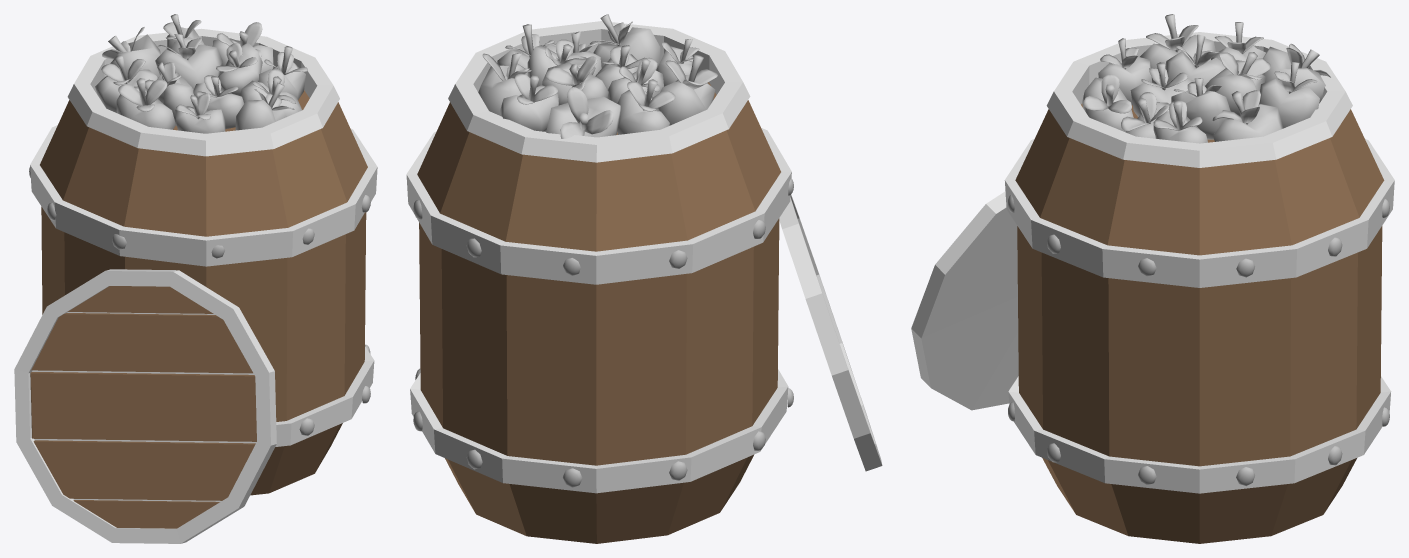
File: AppleBarrel.fbx
The picture shows the model from 3 angles, left to right: view 1: azimuth 30°, elevation 25°; view 2: azimuth 150°, elevation 25°; view 3: azimuth 270°, elevation 25°; orthographic projection. The views are drawn at different scales.
Visible parts, largest first — view 1: Barrel Bolts.001, BarrelLid_New.001, AppleBunch_New.001; view 2: Barrel Bolts.001, AppleBunch_New.001, BarrelLid_New.001; view 3: Barrel Bolts.001, AppleBunch_New.001, BarrelLid_New.001.
Part boxes in pixels (left/top/right/bottom): Barrel Bolts.001: left=29, top=28, right=377, bottom=495; BarrelLid_New.001: left=14, top=269, right=276, bottom=543; AppleBunch_New.001: left=95, top=14, right=307, bottom=133; Barrel Bolts.001: left=406, top=21, right=793, bottom=543; AppleBunch_New.001: left=478, top=14, right=717, bottom=138; BarrelLid_New.001: left=779, top=194, right=882, bottom=471; Barrel Bolts.001: left=1004, top=32, right=1394, bottom=543; AppleBunch_New.001: left=1082, top=14, right=1330, bottom=143; BarrelLid_New.001: left=911, top=191, right=1018, bottom=410.
Size of the model in its own units: 179 by 185 by 188.
